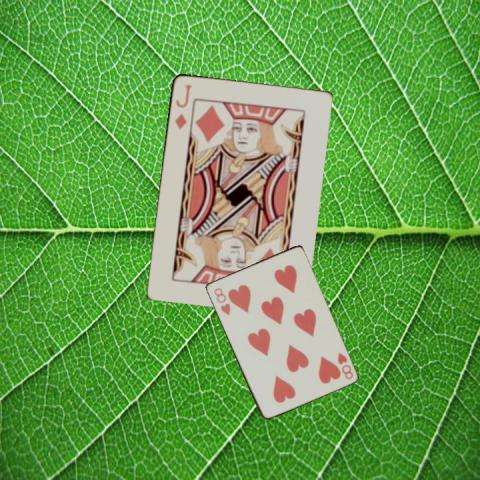8h: (334, 349, 355, 381), (211, 284, 231, 316)
Jd: (172, 80, 193, 130)
